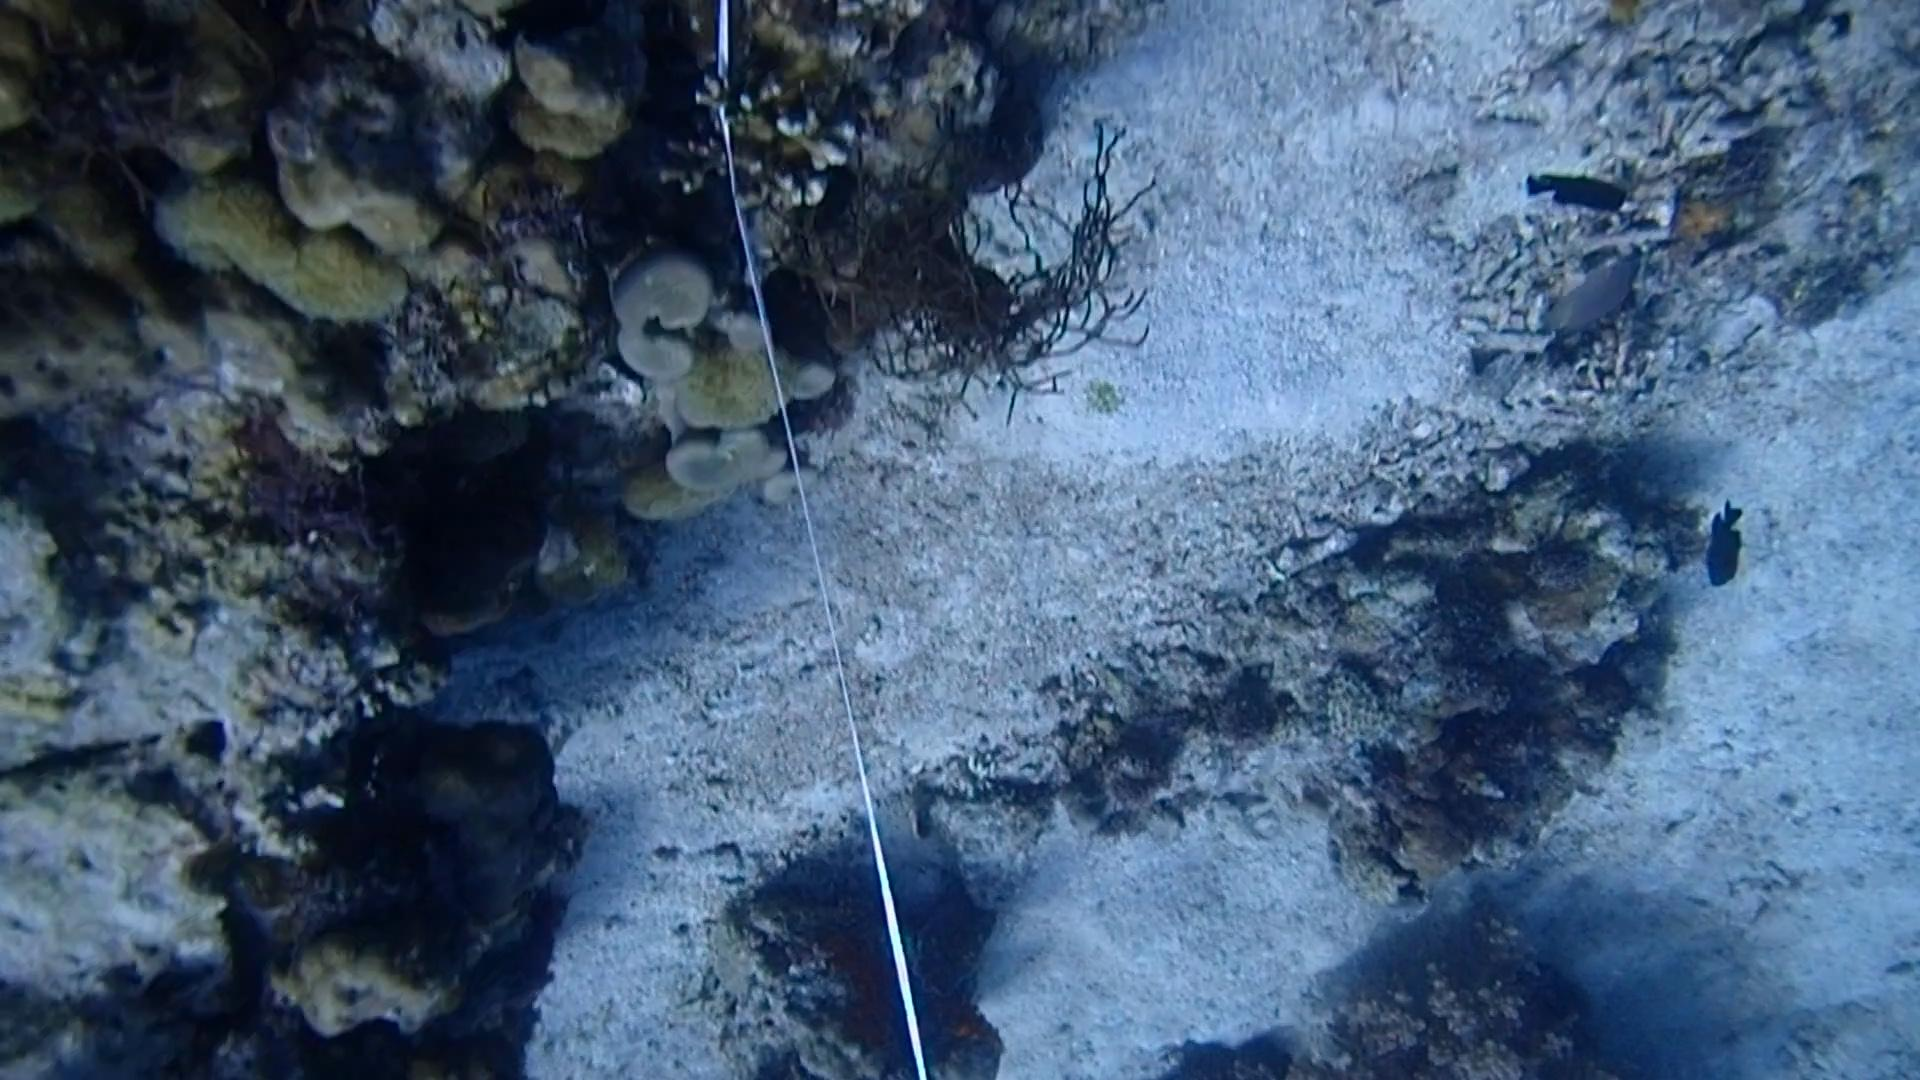Dark Fish: (1516, 161, 1640, 225), (1692, 493, 1759, 595)
Light Fish: (1527, 239, 1652, 347)
